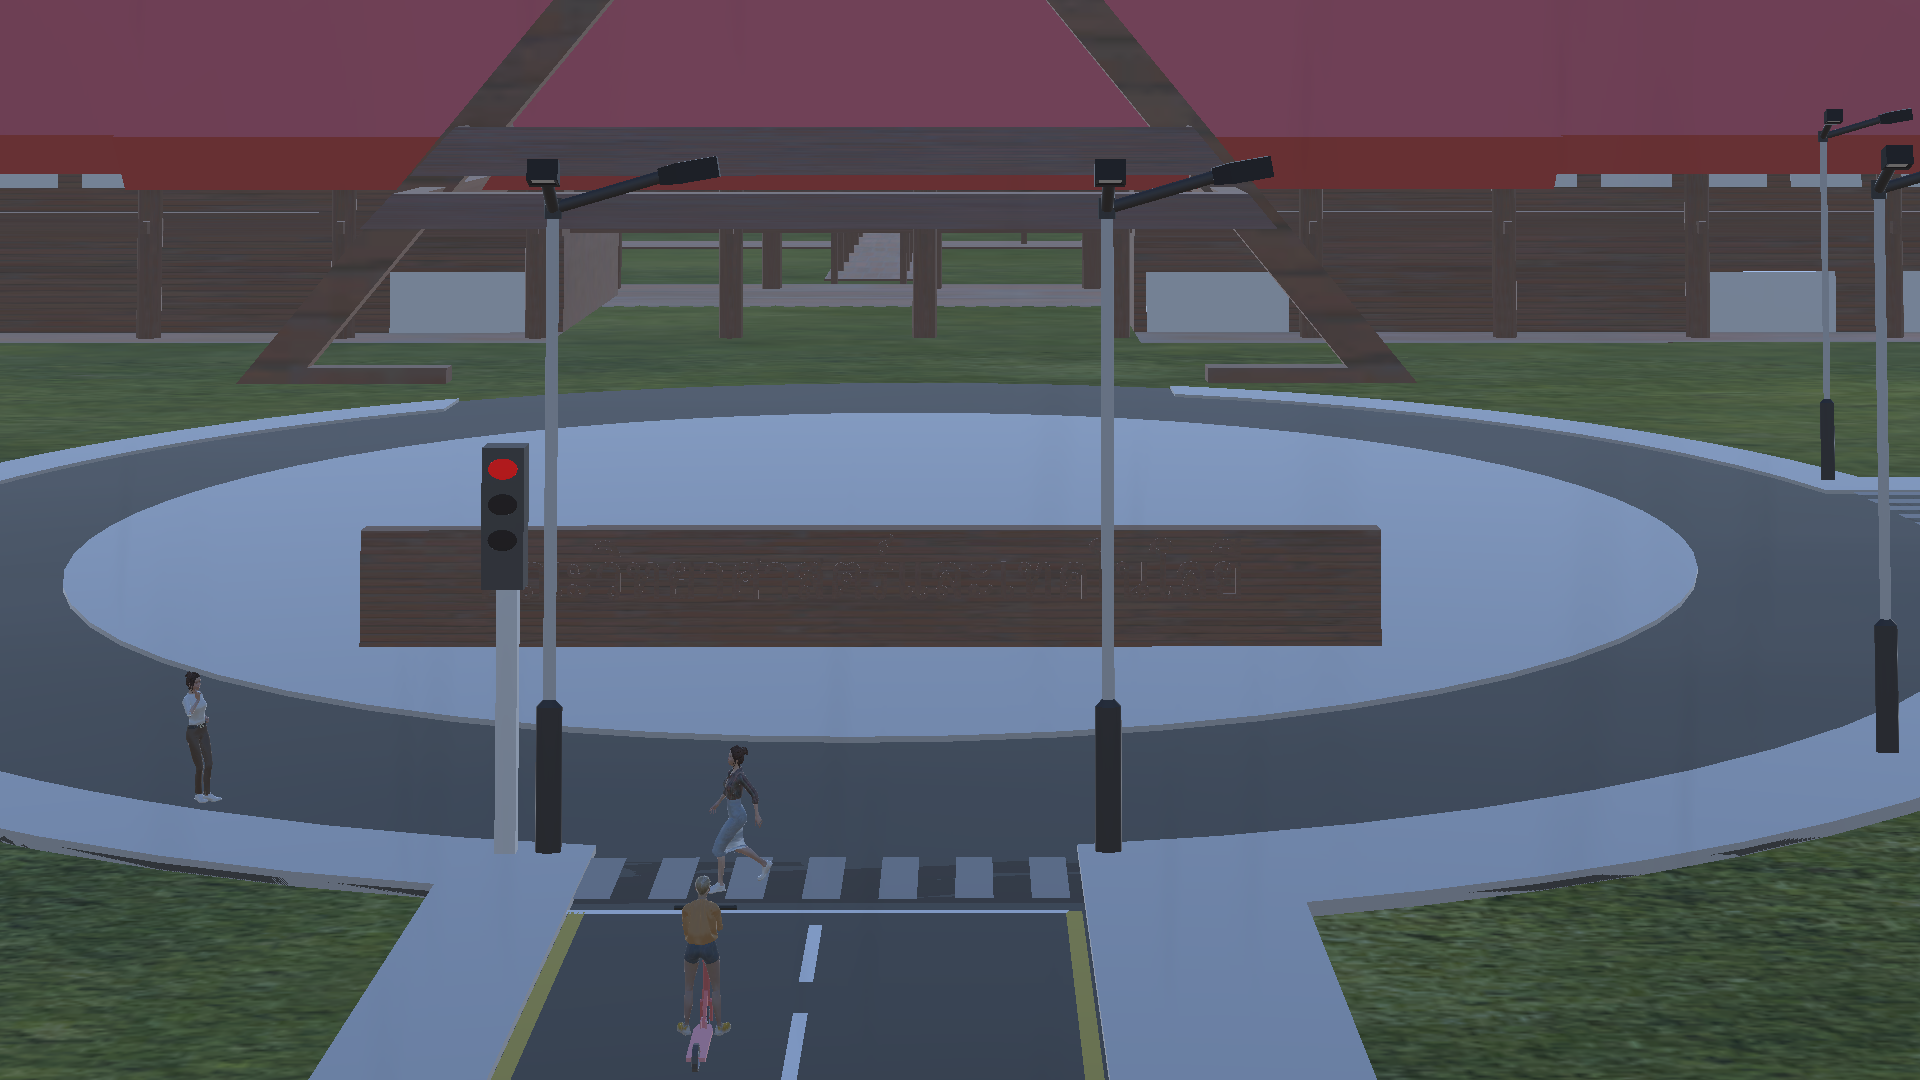pedestrian: (706, 743, 783, 892), (170, 664, 239, 808)
